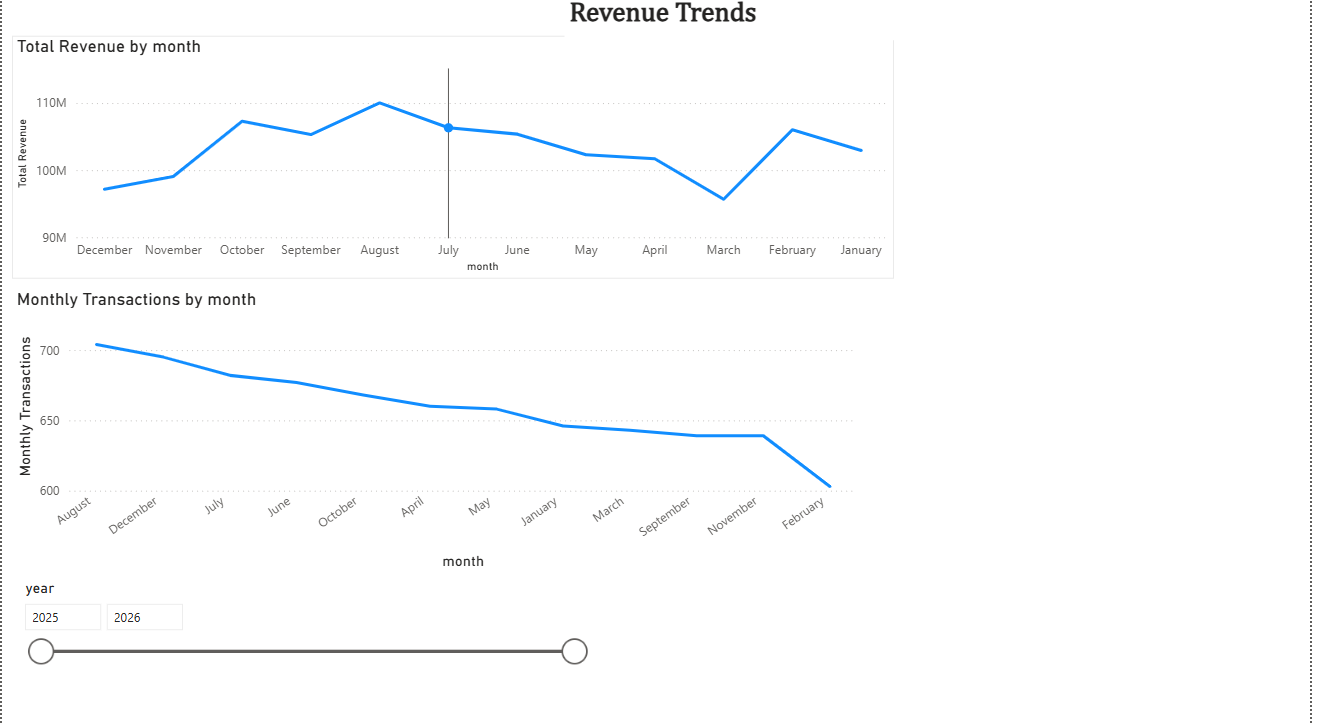

Layout of this report page (visuals, bound fields, positions):
{"tool":"powerbi","page":{"name":"Revenue Trends","canvas":[1280,720],"ordinal":3},"visuals":[{"type":"lineChart","fields":{"Category":["cleaned_retail_data.month"],"Y":["cleaned_retail_data.Total Revenue"]},"box":[10,42.9,862.9,237.1],"z":0},{"type":"lineChart","fields":{"Category":["cleaned_retail_data.month"],"Y":["cleaned_retail_data.Monthly Transactions"]},"box":[10,290,831.4,280],"z":1000},{"type":"slicer","fields":{"Values":["cleaned_retail_data.year"]},"box":[10,570,571.4,150],"z":2000},{"type":"textbox","box":[550,0,322.9,47.1],"z":3000}]}

Visuals, with their boxes in screenshot pixels (x1, y1, x2, y2), scaled from the page's 1280x720 canvas onto the 1318x723 screenshot:
lineChart - cleaned_retail_data.month x cleaned_retail_data.Total Revenue: pyautogui.locateOnScreen(10, 43, 899, 281)
lineChart - cleaned_retail_data.month x cleaned_retail_data.Monthly Transactions: pyautogui.locateOnScreen(10, 291, 866, 572)
slicer - cleaned_retail_data.year: pyautogui.locateOnScreen(10, 572, 599, 722)
textbox: pyautogui.locateOnScreen(566, 0, 899, 47)
